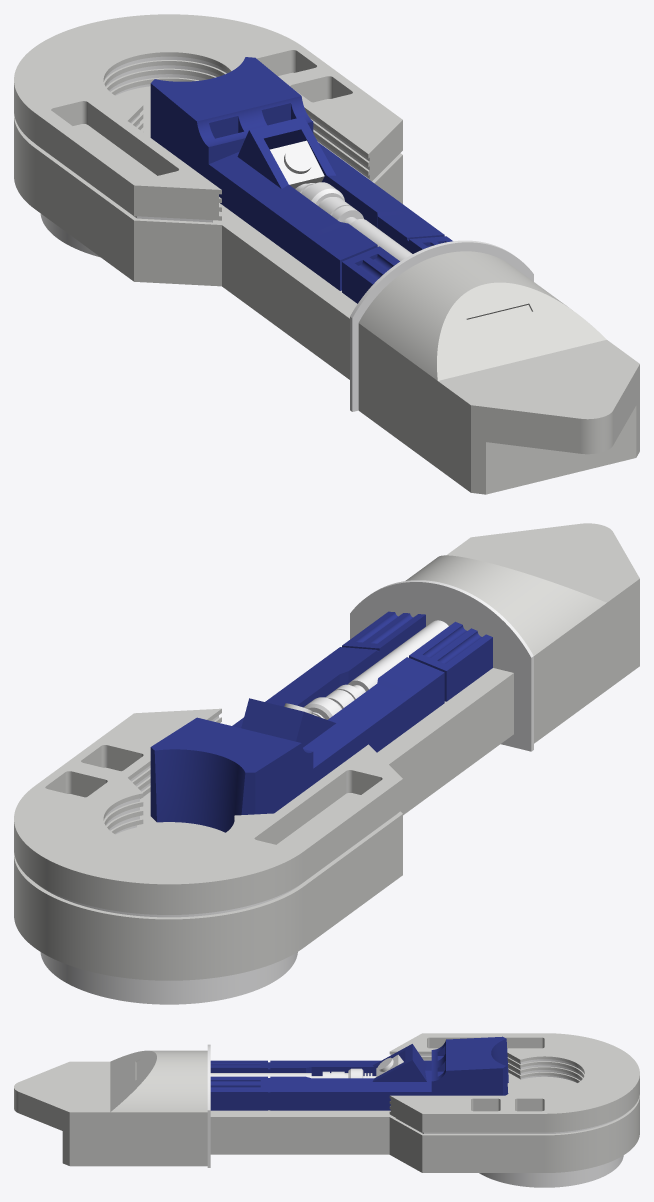
File: left_leg.obj
The picture shows the model from 3 angles, top to bottom: view 1: azimuth 30°, elevation 25°; view 2: azimuth 150°, elevation 25°; view 3: azimuth 270°, elevation 25°; orthographic projection. The views are drawn at different scales.
Parts seen in each view (by area): view 1: Ankle, Left, Body1:1, Leg, Body1:2, Ankle Plate; view 2: Left, Leg, Body1:1, Ankle, Ankle Plate, Shoulder Flange, Body1:2, Body1; view 3: Leg, Ankle, Left, Body1:1, Shoulder Flange, Body1:2, Body1, Ankle Plate.
Boxes of the visible parts, x1=… form: Ankle: x1=358, y1=251, x2=639, y2=494; Left: x1=14, y1=14, x2=402, y2=220; Body1:1: x1=150, y1=57, x2=452, y2=303; Leg: x1=14, y1=86, x2=402, y2=379; Body1:2: x1=270, y1=140, x2=412, y2=261; Ankle Plate: x1=350, y1=240, x2=533, y2=411; Left: x1=14, y1=708, x2=402, y2=914; Leg: x1=14, y1=668, x2=513, y2=980; Body1:1: x1=150, y1=611, x2=492, y2=832; Ankle: x1=405, y1=523, x2=639, y2=743; Ankle Plate: x1=350, y1=580, x2=533, y2=751; Shoulder Flange: x1=40, y1=952, x2=297, y2=1004; Body1:2: x1=284, y1=620, x2=448, y2=719; Body1: x1=36, y1=792, x2=396, y2=917; Leg: x1=210, y1=1072, x2=639, y2=1172; Ankle: x1=14, y1=1050, x2=207, y2=1166; Left: x1=389, y1=1033, x2=639, y2=1132; Body1:1: x1=210, y1=1036, x2=508, y2=1110; Shoulder Flange: x1=479, y1=1155, x2=623, y2=1187; Body1:2: x1=210, y1=1054, x2=403, y2=1078; Body1: x1=396, y1=1072, x2=624, y2=1133; Ankle Plate: x1=207, y1=1044, x2=210, y2=1167.
Bounding box in the file's own units: 0.2039 × 0.1208 × 0.6687.
